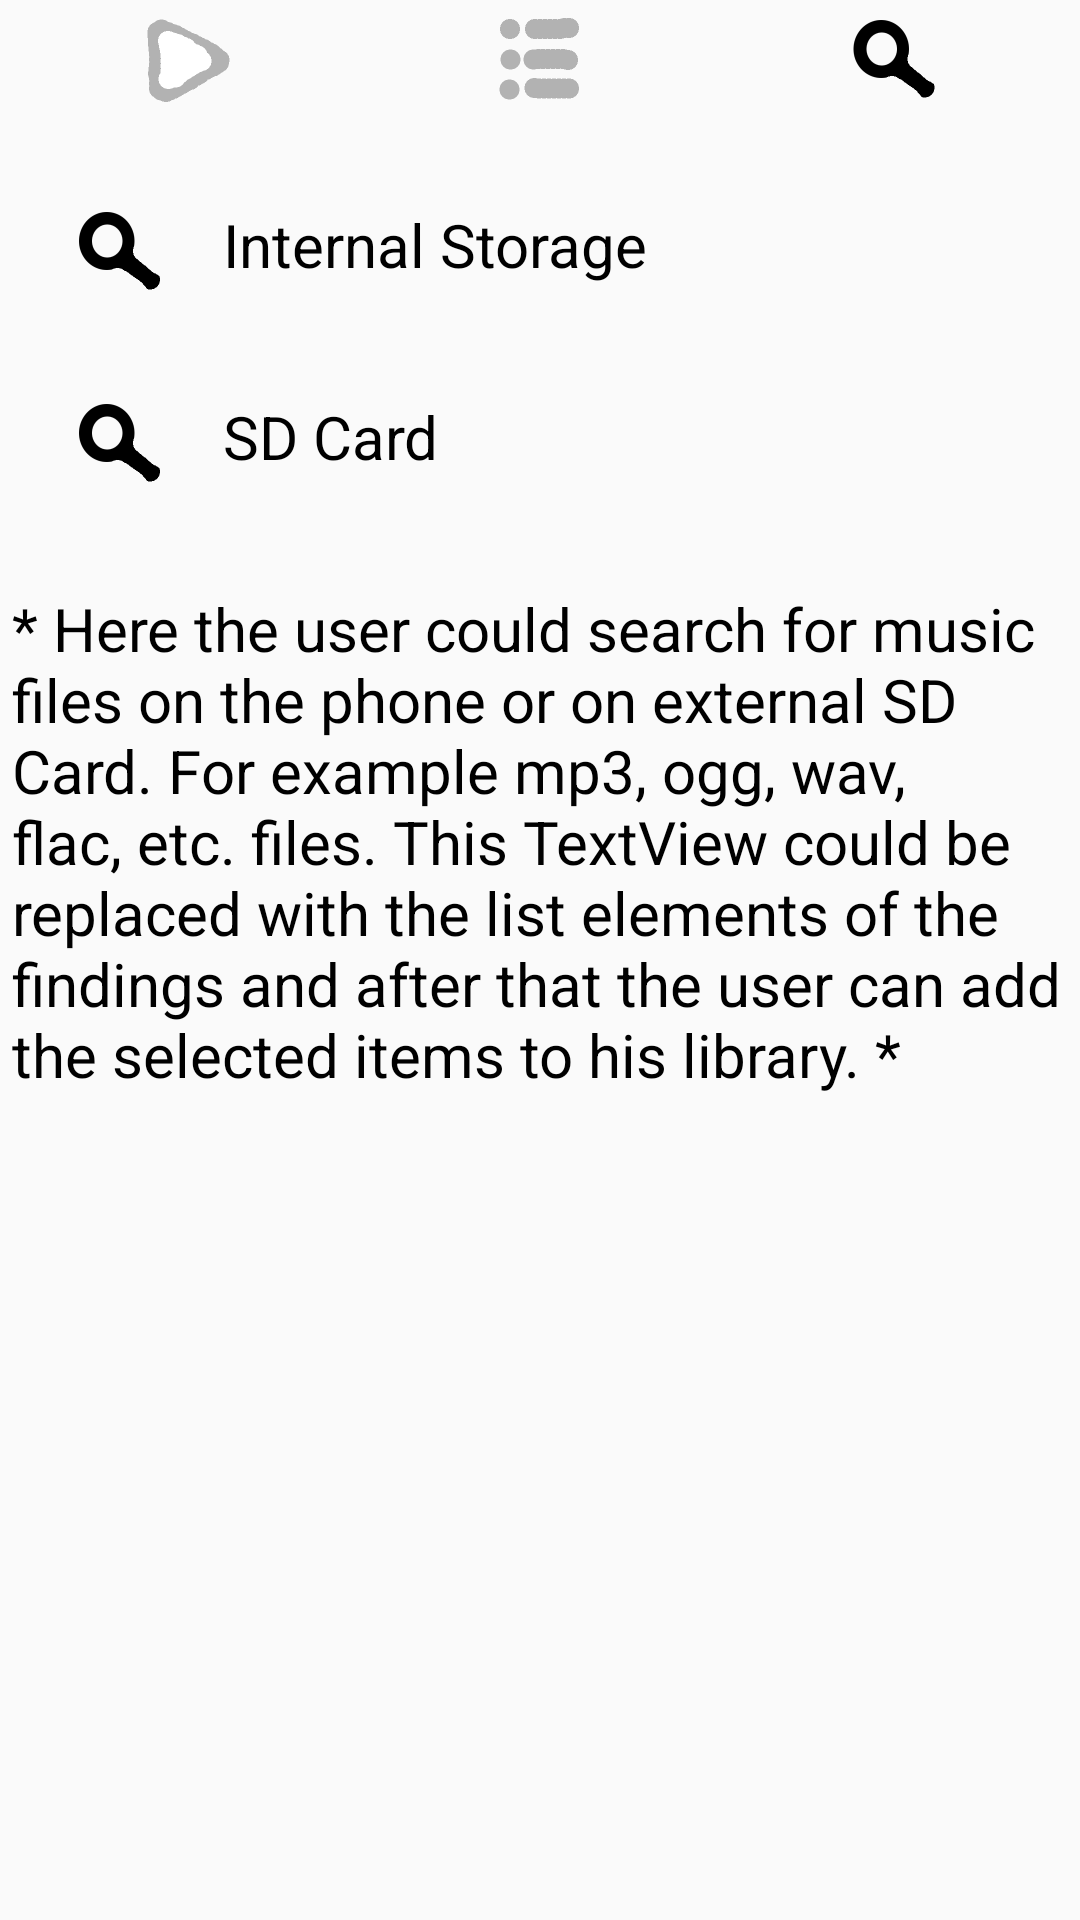

Where to tap for icons on this 1080x1920 app screen, as (x=x, y=y):
library: (x=539, y=59)
play: (x=188, y=60)
